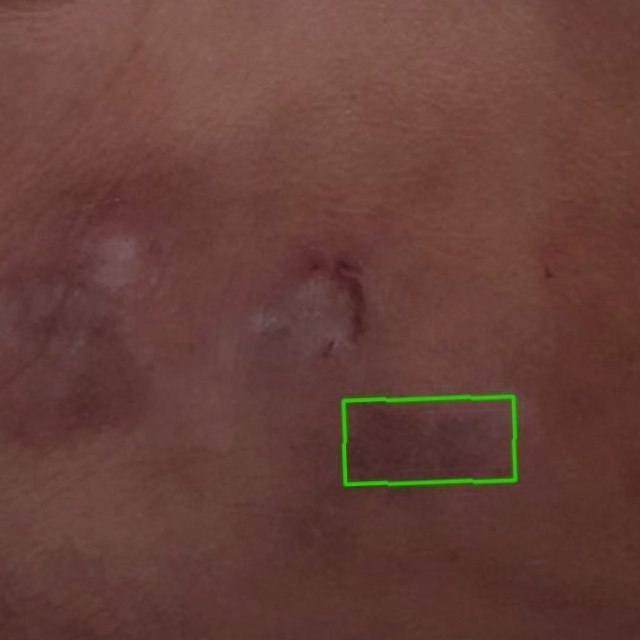Eczema: (343, 396, 515, 485)
